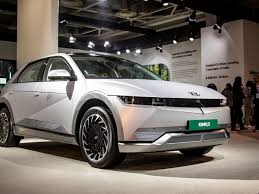Honda Ioniq: (1, 48, 236, 171)
